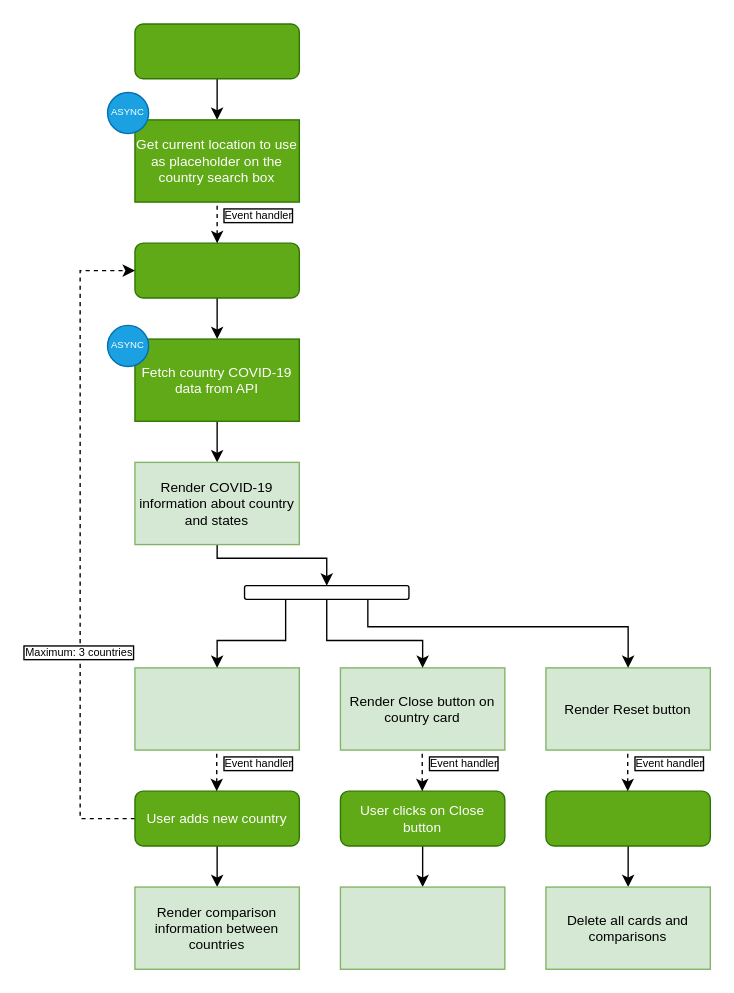
The diagram is 734 pixels wide and 993 high, and some of its shapes have lost their labels. The shapes that lost their labels are listed below. From the top down, each one's centre as x and y in pixels, then its label:
At (x=216, y=51): "Page loads".
At (x=216, y=270): "User inputs country and clicks search button".
At (x=216, y=708): "Render button to add new country to compare".
At (x=627, y=818): "User clicks on Reset button".
At (x=422, y=927): "Delete country card and comparison information".
